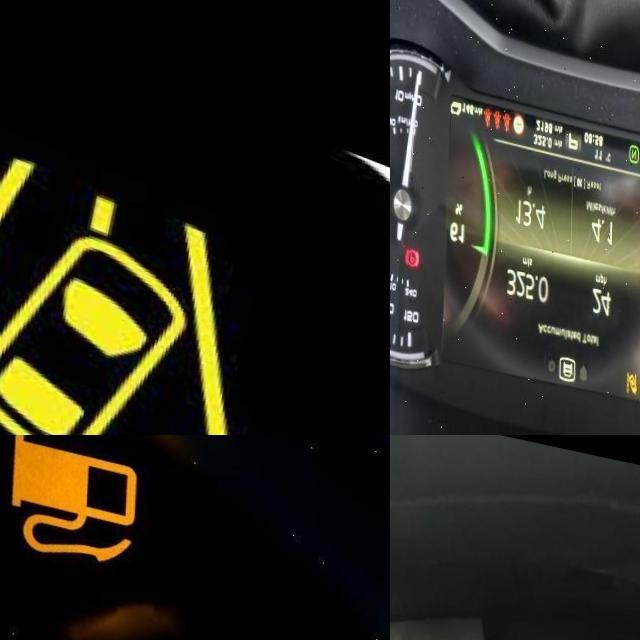Seat Belt: (483, 95, 492, 119), (494, 98, 503, 120), (505, 100, 511, 119)
